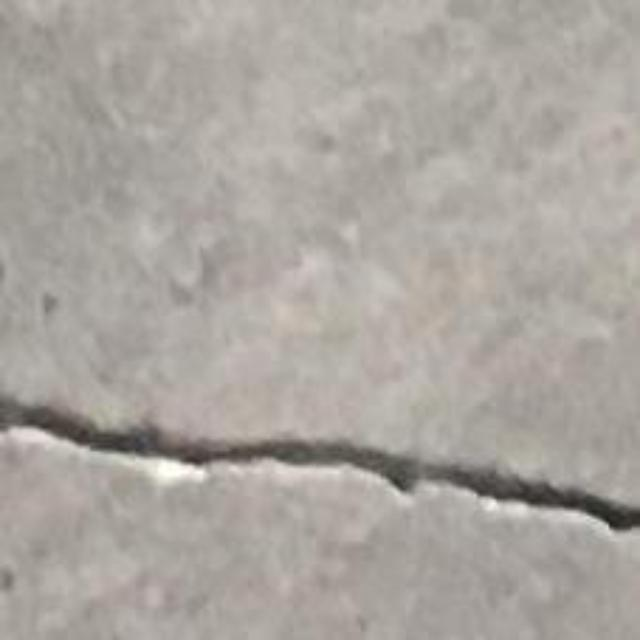crack: (0, 395, 639, 530)
